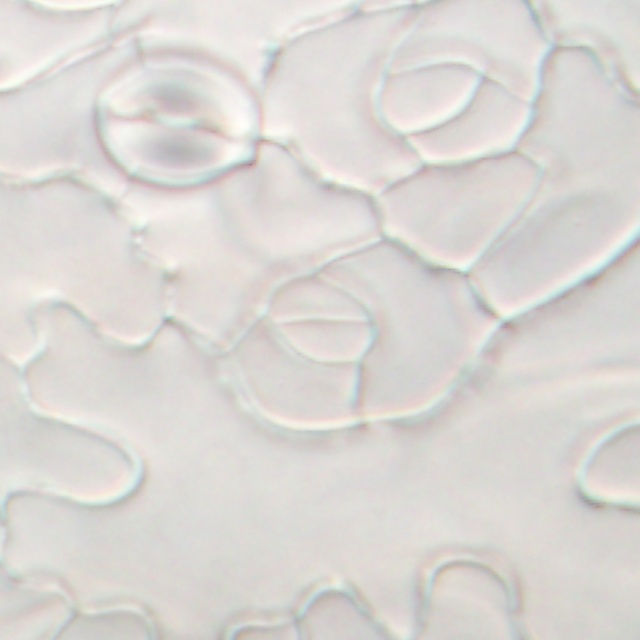center: (138, 100, 218, 139), (49, 4, 89, 7)
stomata-huw1: (97, 50, 261, 187), (25, 1, 113, 10)
